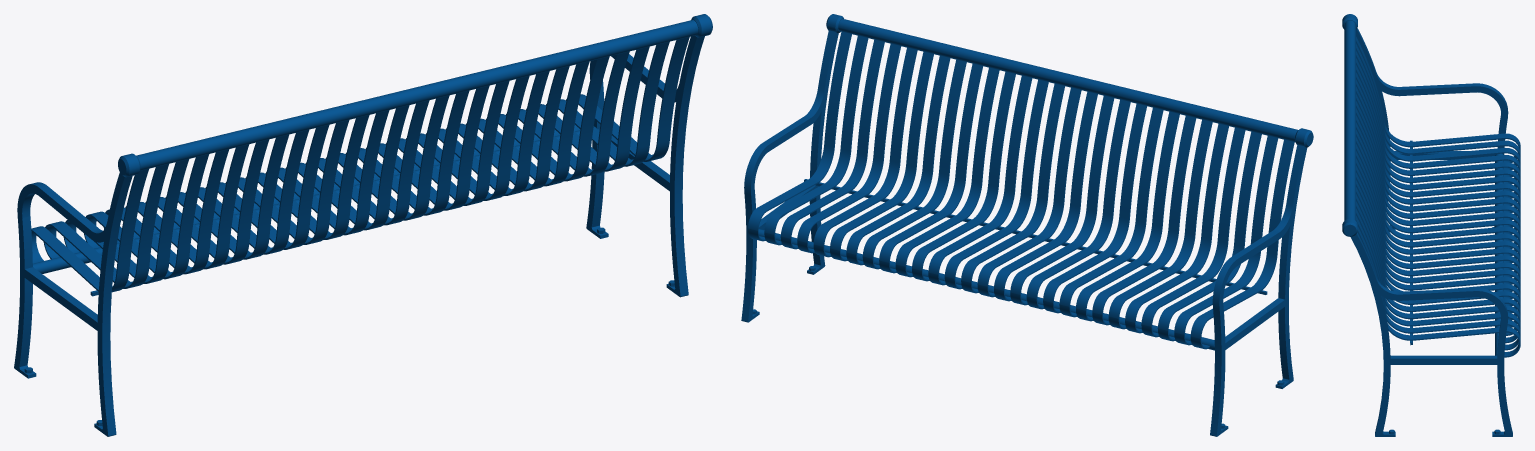
The picture shows the model from 3 angles, left to right: view 1: azimuth 30°, elevation 25°; view 2: azimuth 150°, elevation 25°; view 3: azimuth 270°, elevation 25°; orthographic projection. The views are drawn at different scales.
Visible parts, largest first — view 1: mesh15_mesh15-geometry, mesh1_mesh1-geometry, mesh30_mesh30-geometry, mesh47_mesh47-geometry, mesh3_mesh3-geometry; view 2: mesh15_mesh15-geometry, mesh1_mesh1-geometry, mesh30_mesh30-geometry, mesh47_mesh47-geometry, mesh3_mesh3-geometry, mesh2_mesh2-geometry; view 3: mesh15_mesh15-geometry, mesh47_mesh47-geometry, mesh30_mesh30-geometry, mesh1_mesh1-geometry, mesh3_mesh3-geometry, mesh34_mesh34-geometry, mesh2_mesh2-geometry.
Boxes of the visible parts, x1,y1,x2,y2 form: mesh15_mesh15-geometry: (31,37,689,292); mesh1_mesh1-geometry: (136,20,698,170); mesh30_mesh30-geometry: (14,172,132,436); mesh47_mesh47-geometry: (586,35,704,297); mesh3_mesh3-geometry: (33,127,595,273); mesh15_mesh15-geometry: (748,31,1294,349); mesh1_mesh1-geometry: (838,19,1298,142); mesh30_mesh30-geometry: (1210,144,1307,436); mesh47_mesh47-geometry: (741,30,838,322); mesh3_mesh3-geometry: (758,229,1214,350); mesh2_mesh2-geometry: (804,179,1267,294); mesh15_mesh15-geometry: (1356,36,1520,357); mesh47_mesh47-geometry: (1350,233,1512,436); mesh30_mesh30-geometry: (1356,28,1512,232); mesh1_mesh1-geometry: (1344,20,1355,220); mesh3_mesh3-geometry: (1495,153,1503,355); mesh34_mesh34-geometry: (1342,218,1357,236); mesh2_mesh2-geometry: (1410,140,1412,345).
Bounding box in the file's own units: 0.8583 × 0.4098 × 0.3087.
